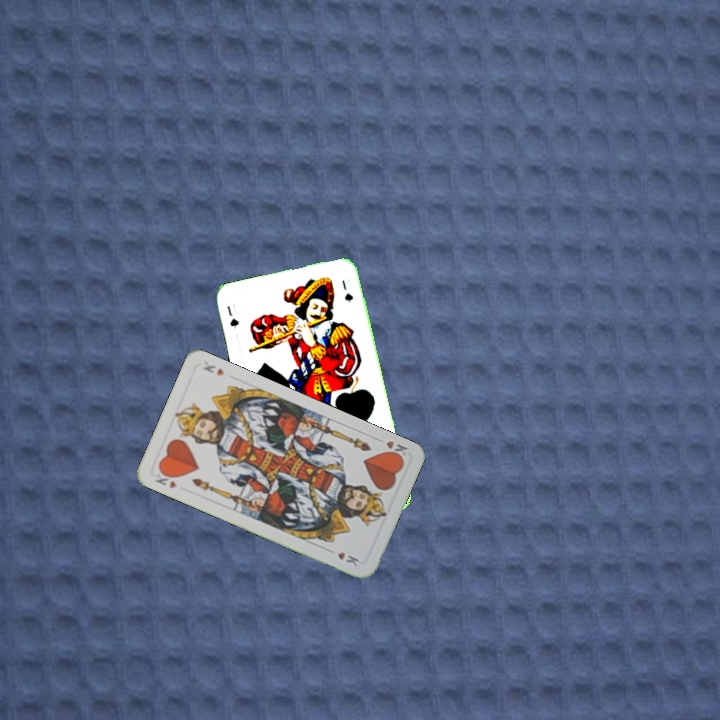GU: (223, 300, 241, 331)
HK: (372, 434, 410, 462), (151, 467, 179, 491)
